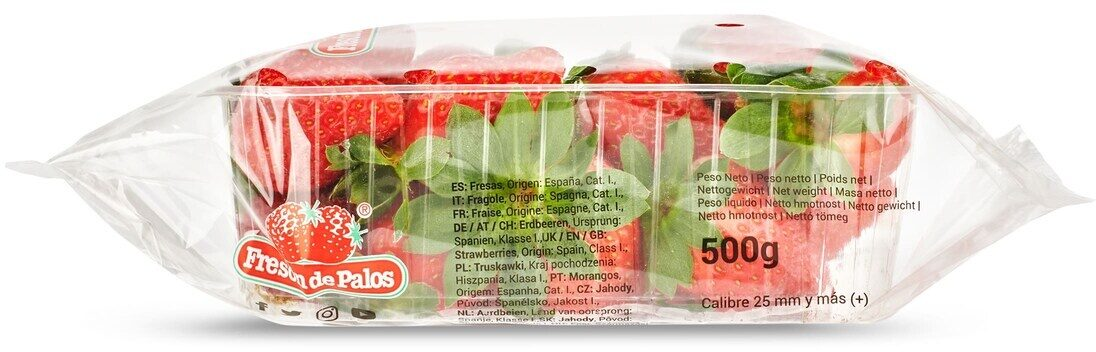Fresas: (55, 18, 1041, 334)
